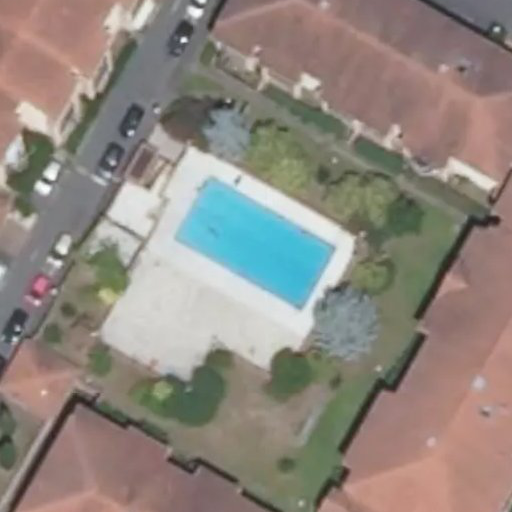pool: (168, 237, 342, 246)
